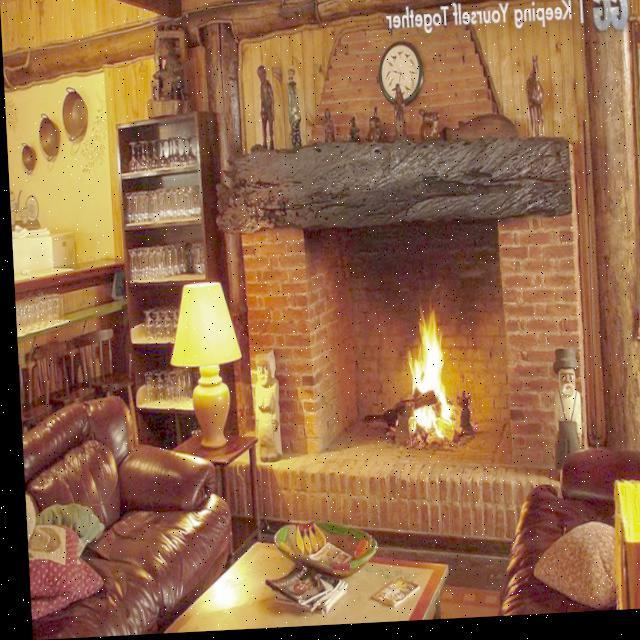Fire: (394, 301, 454, 452)
